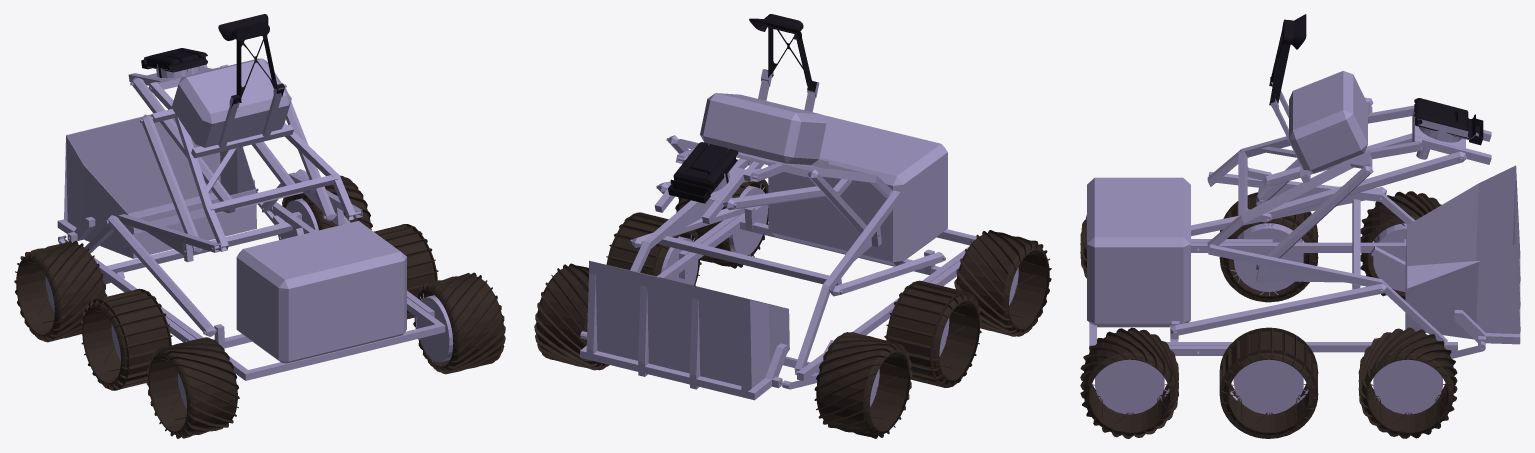
File: excahauler.glb
3 renders of one model, left to right at view 1: azimuth 30°, elevation 25°; view 2: azimuth 150°, elevation 25°; view 3: azimuth 270°, elevation 25°, orthographic. The views are drawn at different scales.
Parts seen in each view (by area): view 1: excahauler; view 2: excahauler; view 3: excahauler.
Part boxes in pixels (<box>): excahauler: <box>14,14,505,438</box>; excahauler: <box>534,14,1051,438</box>; excahauler: <box>1080,14,1520,438</box>.
Bounding box in the file's own units: 1.26 × 1.21 × 1.44.
